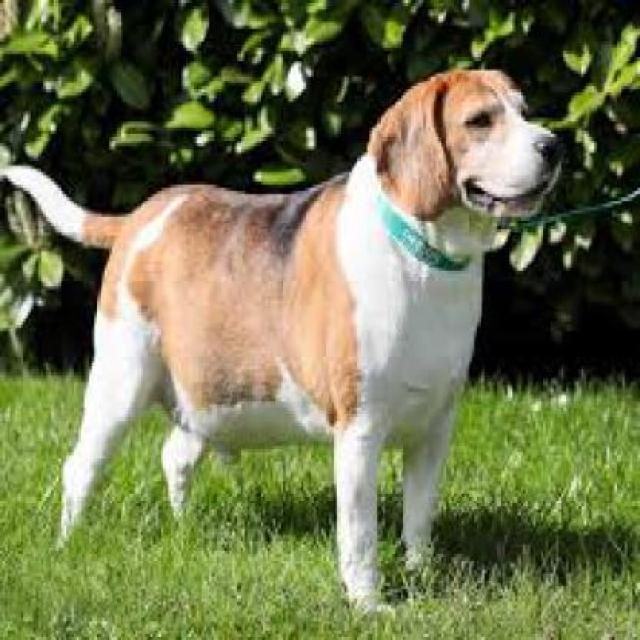Dog: (5, 60, 563, 620)
